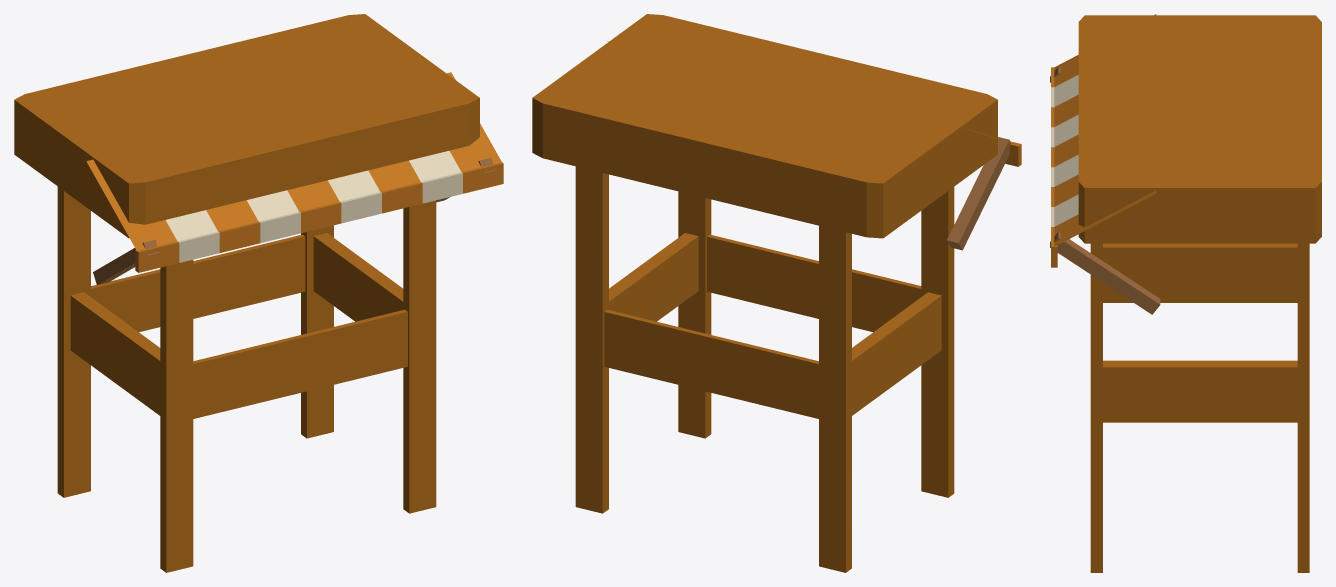
File: market-stall-butter.glb
3 views of the same model, side by side, from view 1: azimuth 30°, elevation 25°; view 2: azimuth 150°, elevation 25°; view 3: azimuth 270°, elevation 25° (orthographic).
Parts seen in each view (by area): view 1: market-stall-butter; view 2: market-stall-butter; view 3: market-stall-butter.
Part boxes in pixels (bbox=[...]): market-stall-butter: bbox=[14, 14, 503, 572]; market-stall-butter: bbox=[532, 14, 1021, 572]; market-stall-butter: bbox=[1050, 14, 1321, 572].
Bounding box in the file's own units: 2.24 × 2.35 × 1.43.
